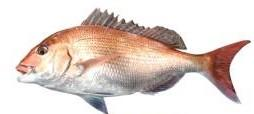fish: (16, 8, 252, 113)
